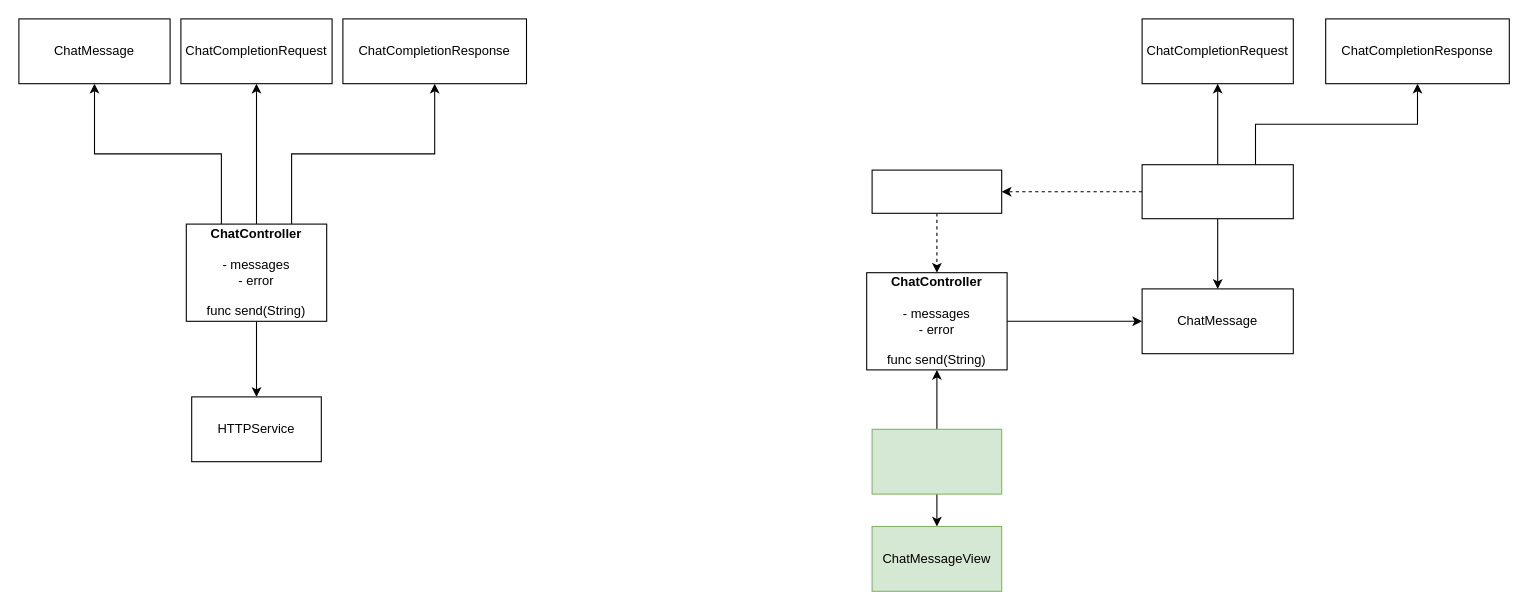
This 1528x610 diagram has some shape labels left out. The shapes that lost their labels are listed below. From the top down, each one's centre as x and y in pixels, then its label:
At (936,191): "<FeedService>".
At (1217,191): "OpenAIHttpService".
At (936,461): "ChatView".
